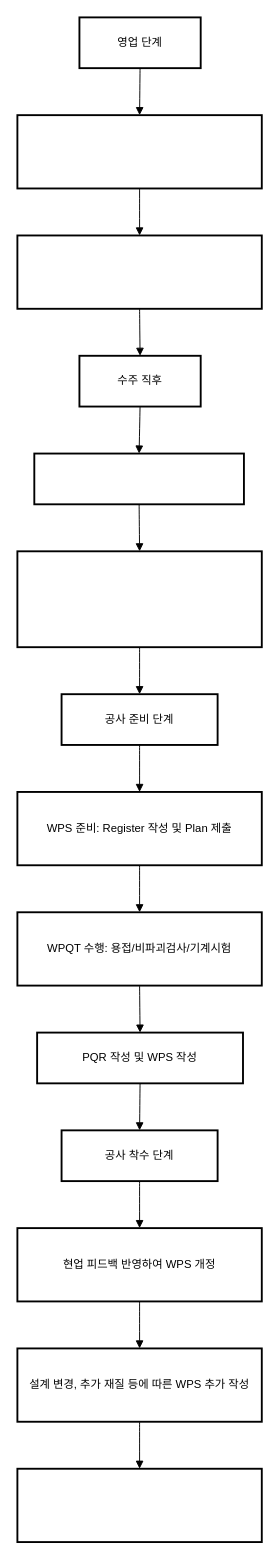
Image size: 278x1559. Some labels were removed from this diagram. Here are the shapes that lost their labels. From the top down, the box of each, then its label:
(16, 114, 262, 189): Spec 검토 및 주요 사항 영업 부서 공유
(16, 234, 262, 309): 요구 수준 완화 또는 견적 조정 제안
(33, 452, 244, 505): Spec Clarification 수행
(16, 550, 262, 648): 발주처 협의 필요 시 Clarification/Deviation 진행
(16, 1467, 262, 1543): 생산성 및 효율성 개선 WPS 추가 가능
